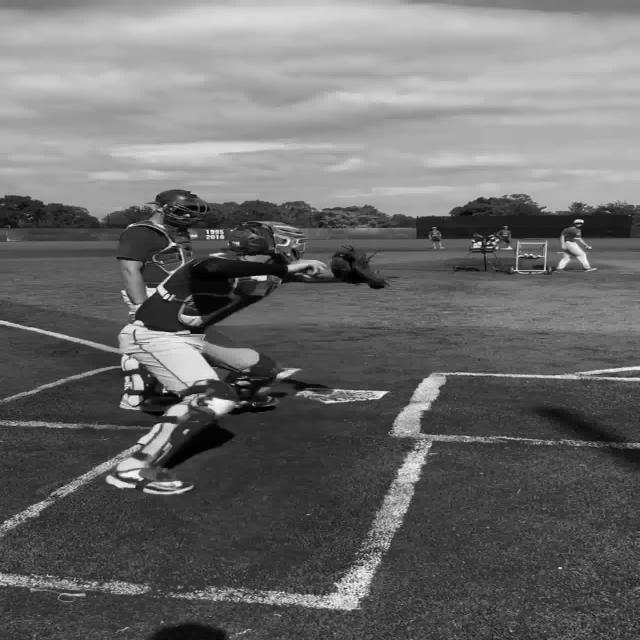base: (299, 388, 381, 405)
baseball_glove: (328, 244, 398, 290)
shoe: (225, 359, 281, 408), (104, 465, 194, 495), (118, 354, 156, 410), (233, 395, 277, 411), (552, 268, 568, 272), (583, 267, 597, 271)
